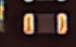COMP: (18, 10, 72, 38)
